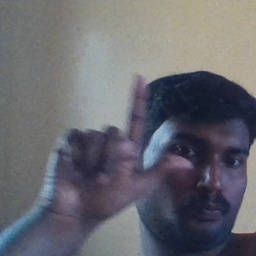L: (45, 73, 193, 218)
